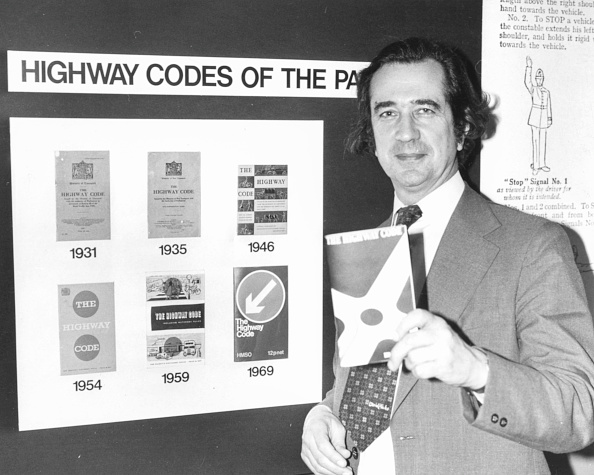em pe: (297, 27, 593, 475)
